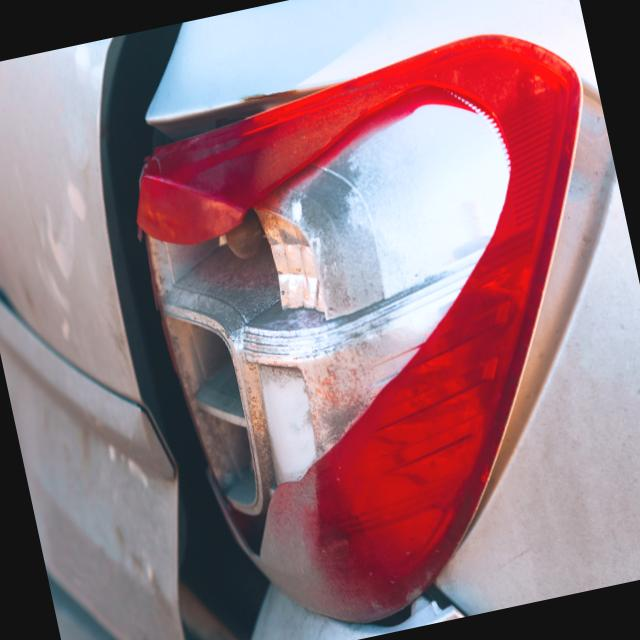Cabossage: (0, 252, 56, 521)
Dechirure: (353, 572, 470, 635)
Phare abime: (119, 73, 603, 565)
